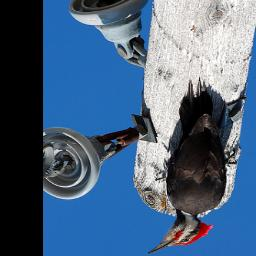Woodpecker: (140, 80, 246, 256)
